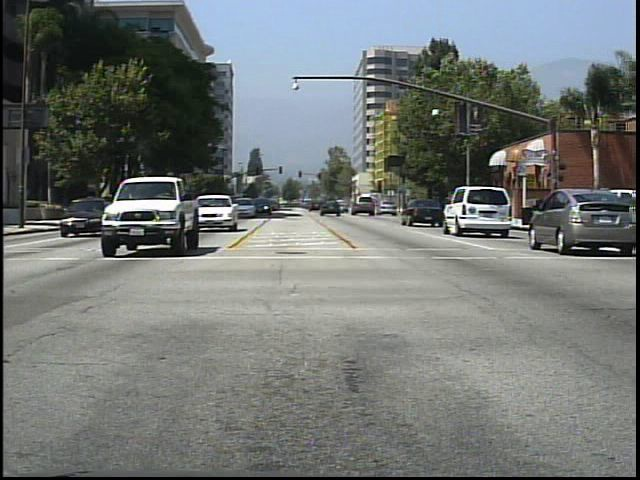person: (497, 190, 517, 229), (457, 192, 475, 227)
